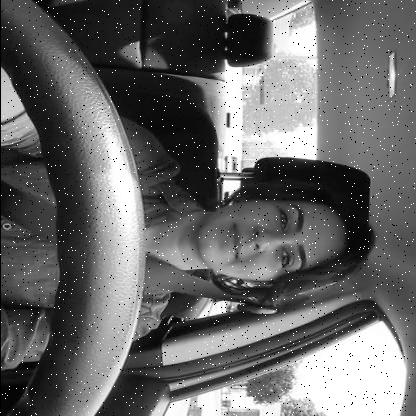seatbelt: (0, 157, 397, 321)
